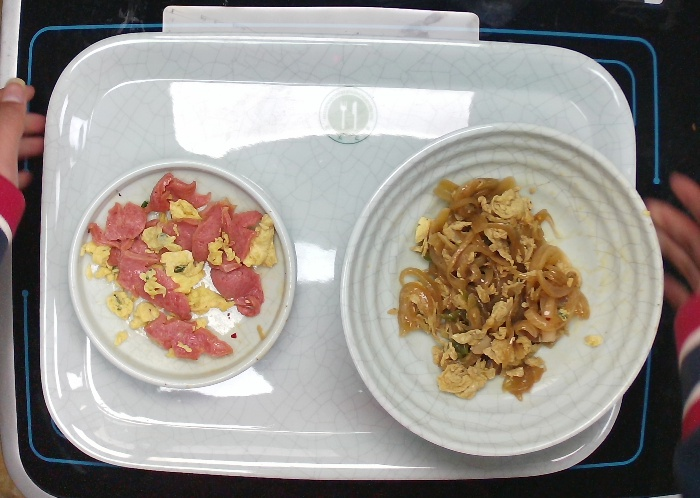JYsf-Da_Tang_Wan: (327, 111, 674, 464)
JYsf-Xiao_Yuan_Pan: (66, 156, 308, 398)
